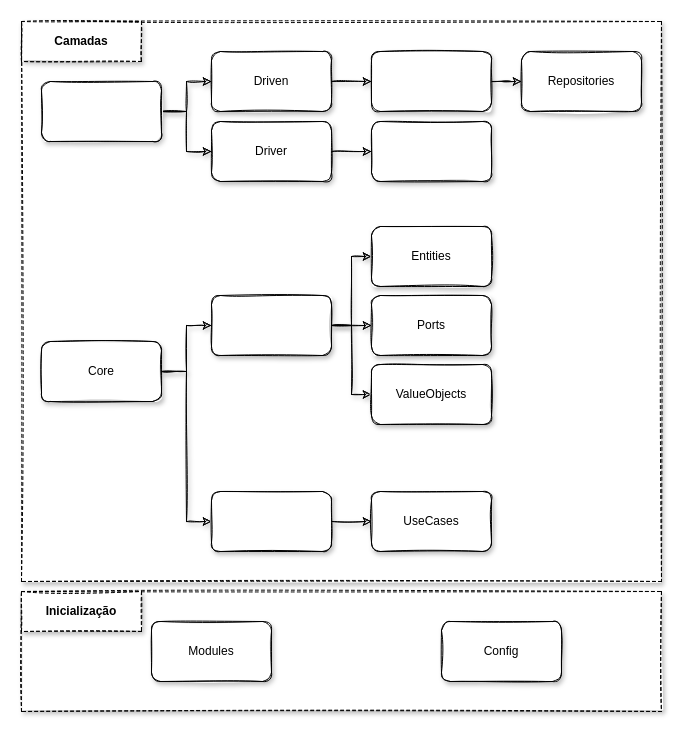
Some shapes in this 685 by 736 pixel diagram are drawn without their labels. The shapes that lost their labels are listed below. From the top down, each one's centre as x and y in pixels, then its label:
At point (432, 82): "Infra".
At point (102, 112): "Adapter".
At point (432, 152): "Controller".
At point (272, 326): "Domain".
At point (272, 522): "Application".
